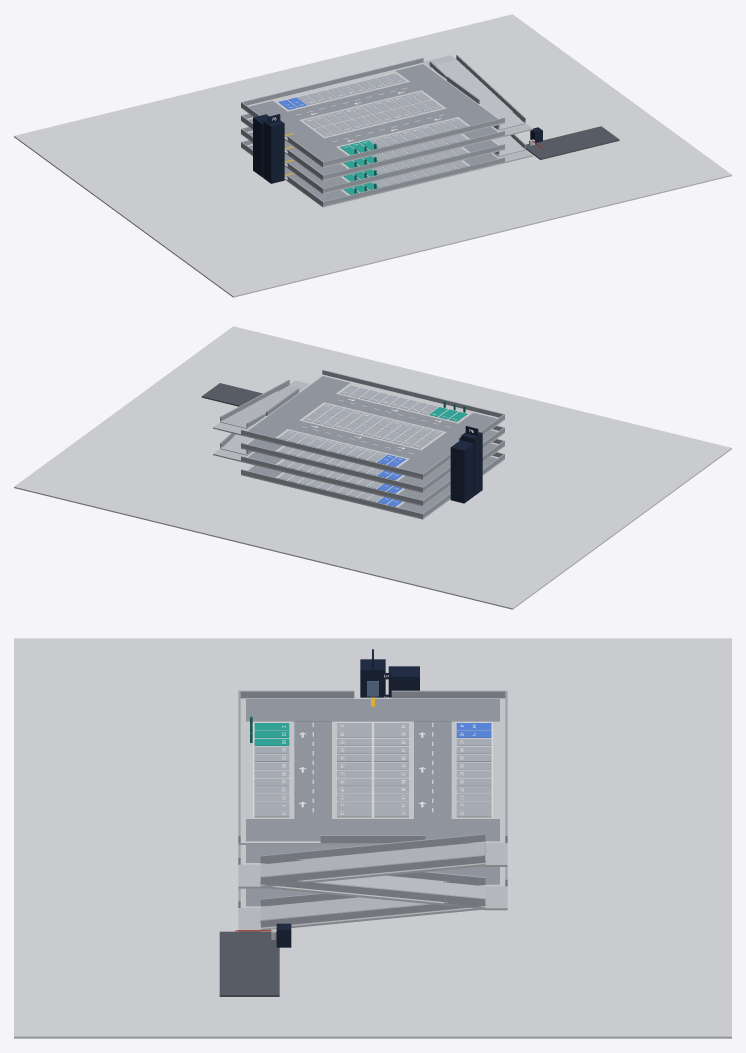
File: parking_p6.glb
3 renders of one model, top to bottom at view 1: azimuth 30°, elevation 25°; view 2: azimuth 150°, elevation 25°; view 3: azimuth 270°, elevation 25°, orthographic. The views are drawn at different scales.
Visible parts, largest first — view 1: P6_site_sol, P6_N3_voie, P6_N3_dalle, P6_N3_gardecorps, P6_site_noyau, P6_N2_gardecorps, P6_N2_beton, P6_site_asphalte, P6_N0_gardecorps, P6_N1_gardecorps, P6_N3_peinture, P6_N0_voie (+6 smaller); view 2: P6_site_sol, P6_N3_voie, P6_N3_dalle, P6_N3_gardecorps, P6_site_noyau, P6_N2_gardecorps, P6_N1_gardecorps, P6_N0_gardecorps, P6_N3_peinture, P6_N2_beton, P6_site_asphalte, P6_N1_voie (+6 smaller); view 3: P6_site_sol, P6_N3_voie, P6_N3_dalle, P6_N2_beton, P6_site_asphalte, P6_N3_gardecorps, P6_N2_gardecorps, P6_N3_peinture, P6_N0_beton, P6_N1_beton, P6_N1_gardecorps, P6_N0_gardecorps (+4 smaller).
Part boxes in pixels (<box>): P6_site_sol: <box>14,14,731,297</box>; P6_N3_voie: <box>249,64,497,161</box>; P6_N3_dalle: <box>241,62,504,167</box>; P6_N3_gardecorps: <box>241,58,504,166</box>; P6_site_noyau: <box>253,114,542,183</box>; P6_N2_gardecorps: <box>241,55,525,179</box>; P6_N2_beton: <box>429,60,532,136</box>; P6_site_asphalte: <box>525,126,619,159</box>; P6_N0_gardecorps: <box>241,134,525,206</box>; P6_N1_gardecorps: <box>241,111,525,192</box>; P6_N3_peinture: <box>277,73,468,155</box>; P6_N0_voie: <box>249,145,497,201</box>; P6_site_sol: <box>14,326,731,609</box>; P6_N3_voie: <box>248,376,496,473</box>; P6_N3_dalle: <box>241,374,504,479</box>; P6_N3_gardecorps: <box>241,370,504,478</box>; P6_site_noyau: <box>450,432,482,503</box>; P6_N2_gardecorps: <box>220,380,504,491</box>; P6_N1_gardecorps: <box>220,380,504,504</box>; P6_N0_gardecorps: <box>220,436,504,518</box>; P6_N3_peinture: <box>277,385,468,467</box>; P6_N2_beton: <box>220,380,308,428</box>; P6_site_asphalte: <box>201,383,262,406</box>; P6_N1_voie: <box>248,443,496,499</box>; P6_site_sol: <box>14,638,731,1038</box>; P6_N3_voie: <box>246,699,499,841</box>; P6_N3_dalle: <box>238,697,505,844</box>; P6_N2_beton: <box>238,842,485,888</box>; P6_site_asphalte: <box>219,931,279,996</box>; P6_N3_gardecorps: <box>238,690,507,842</box>; P6_N2_gardecorps: <box>238,834,485,884</box>; P6_N3_peinture: <box>253,722,492,817</box>; P6_N0_beton: <box>238,897,485,931</box>; P6_N1_beton: <box>260,875,507,910</box>; P6_N1_gardecorps: <box>260,856,507,905</box>; P6_N0_gardecorps: <box>238,878,485,927</box>.
Size of the model in its own units: 126 by 15.72 by 96.
